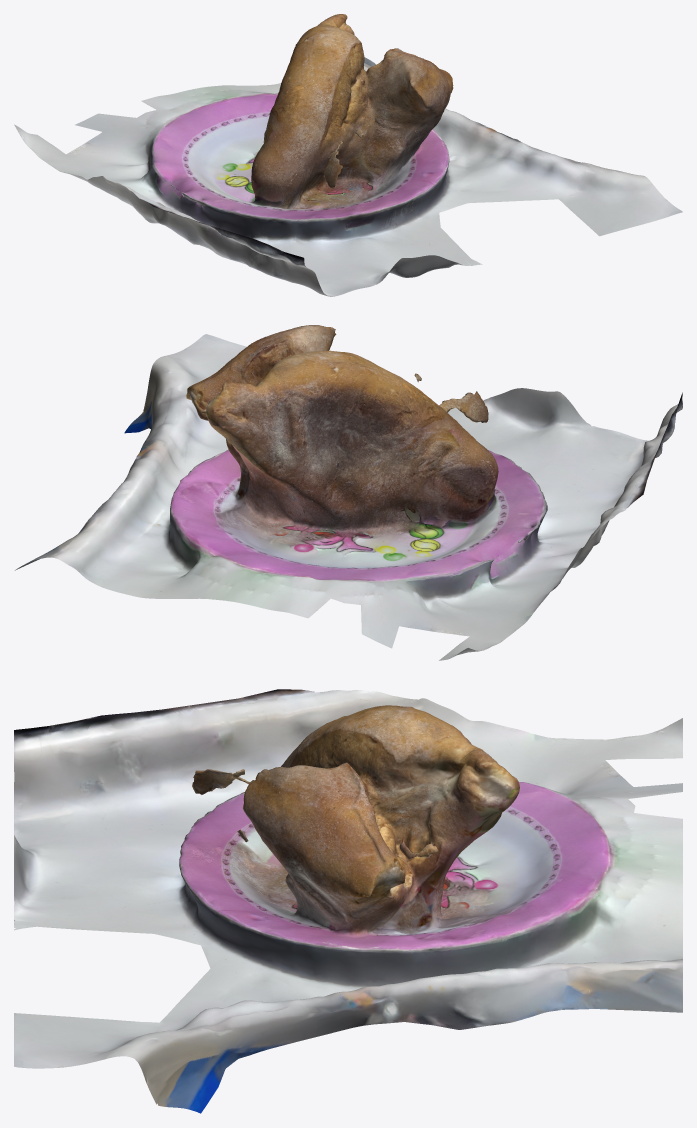
Rendered from bolireplaced.glb.
3 views of the same model, one above another, from view 1: azimuth 30°, elevation 25°; view 2: azimuth 150°, elevation 25°; view 3: azimuth 270°, elevation 25° (orthographic). The views are drawn at different scales.
Parts seen in each view (by area): view 1: baked_mesh; view 2: baked_mesh; view 3: baked_mesh.
Part boxes in pixels (left/top/right/bottom): baked_mesh: left=14, top=14, right=682, bottom=296; baked_mesh: left=15, top=325, right=682, bottom=660; baked_mesh: left=14, top=689, right=682, bottom=1113.
Bounding box in the file's own units: 1.65 × 0.5967 × 1.5.
Materials: 1 (1 with a texture image).
